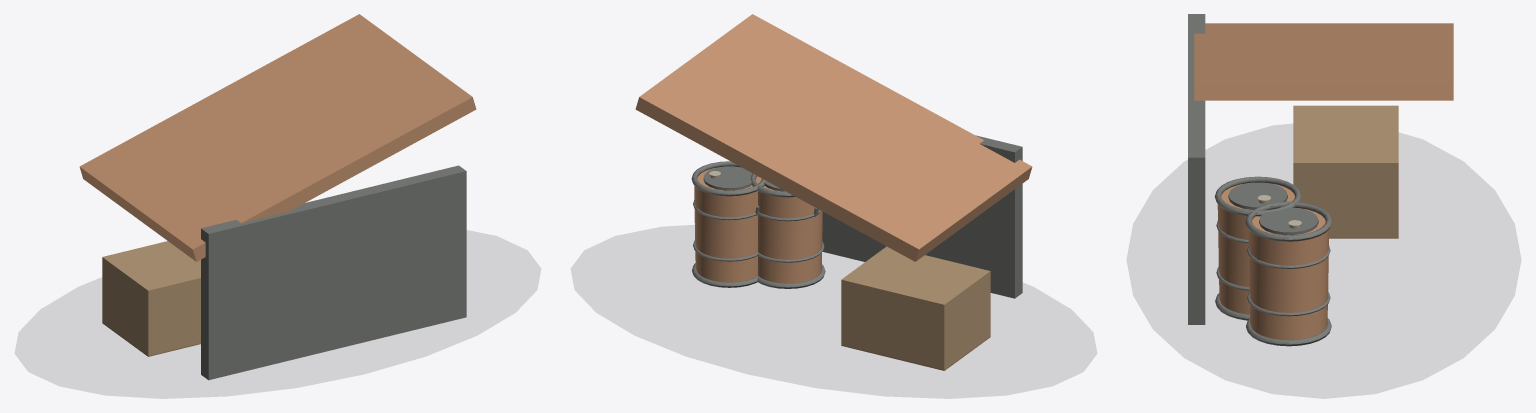
The model's file is storage_lean_to.glb.
The picture shows the model from 3 angles, left to right: view 1: azimuth 30°, elevation 25°; view 2: azimuth 150°, elevation 25°; view 3: azimuth 270°, elevation 25°; orthographic projection. The views are drawn at different scales.
Parts seen in each view (by area): view 1: lean_roof, back_wall, baked_contact_shadow, stored_crate; view 2: lean_roof, baked_contact_shadow, stored_crate, barrel_body (×2), back_wall, barrel_top_recess, barrel_top_rim; view 3: baked_contact_shadow, lean_roof, stored_crate, barrel_body (×2), back_wall, barrel_top_recess (×2), barrel_top_rim (×2), barrel_bottom_rim, barrel_lower_band, barrel_upper_band.
Part boxes in pixels (x1,y1,x2,y2): lean_roof: [79, 14, 476, 261]; back_wall: [201, 165, 466, 380]; baked_contact_shadow: [15, 230, 540, 398]; stored_crate: [102, 241, 200, 356]; lean_roof: [635, 14, 1032, 261]; baked_contact_shadow: [571, 225, 1096, 398]; stored_crate: [841, 246, 990, 370]; barrel_body (×2): [694, 168, 822, 283]; back_wall: [822, 135, 1022, 298]; barrel_top_recess: [703, 166, 755, 190]; barrel_top_rim: [691, 161, 765, 196]; baked_contact_shadow: [1127, 124, 1520, 397]; lean_roof: [1194, 23, 1453, 100]; stored_crate: [1293, 105, 1398, 238]; barrel_body (×2): [1217, 183, 1329, 340]; back_wall: [1188, 14, 1205, 324]; barrel_top_recess (×2): [1228, 182, 1318, 235]; barrel_top_rim (×2): [1214, 176, 1332, 241]; barrel_bottom_rim: [1246, 318, 1331, 346]; barrel_lower_band: [1247, 292, 1330, 316]; barrel_upper_band: [1247, 246, 1330, 268].
Size of the model in its own units: 3 by 1.29 by 1.8.
